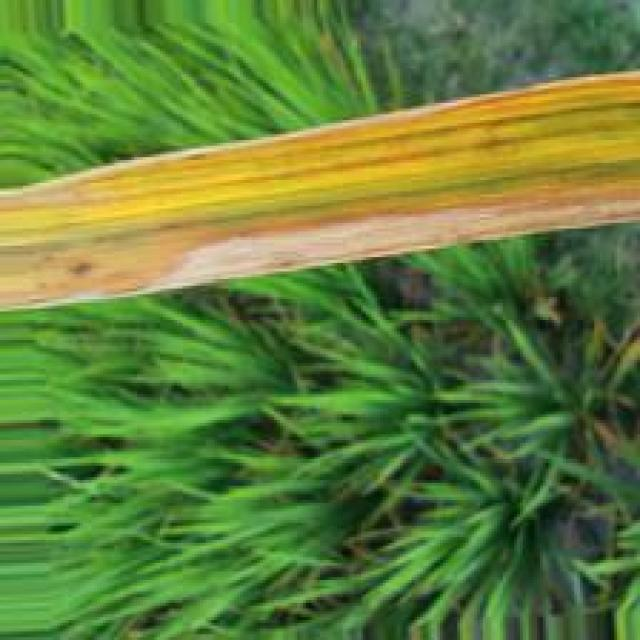Bacterial_Leaf_Blight: (0, 70, 640, 318)
